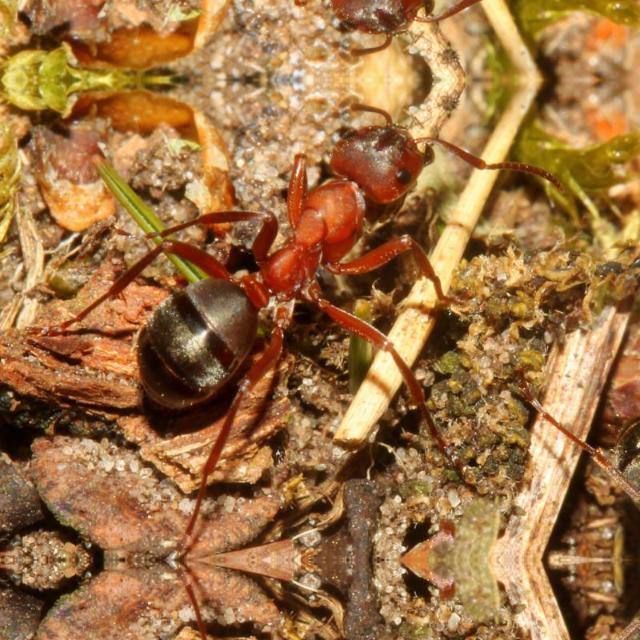Formica: (139, 115, 469, 403)
